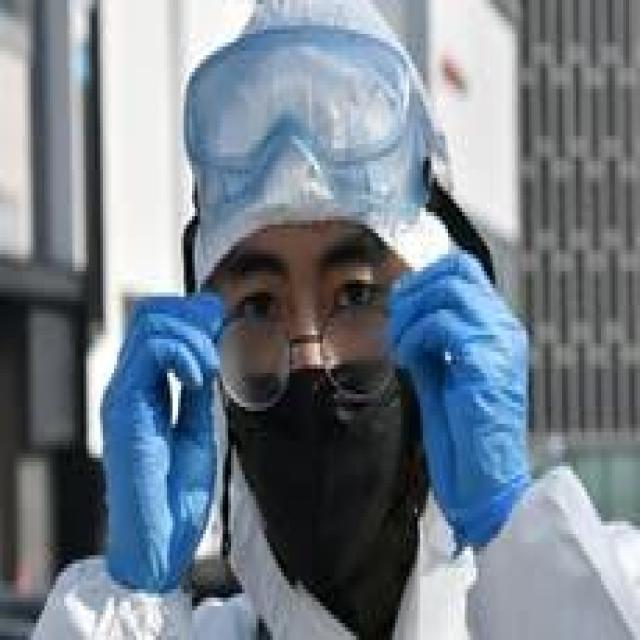Gloves: (376, 246, 534, 551), (95, 284, 231, 602)
Goggles: (178, 9, 423, 238)
Mask: (228, 356, 434, 640)
